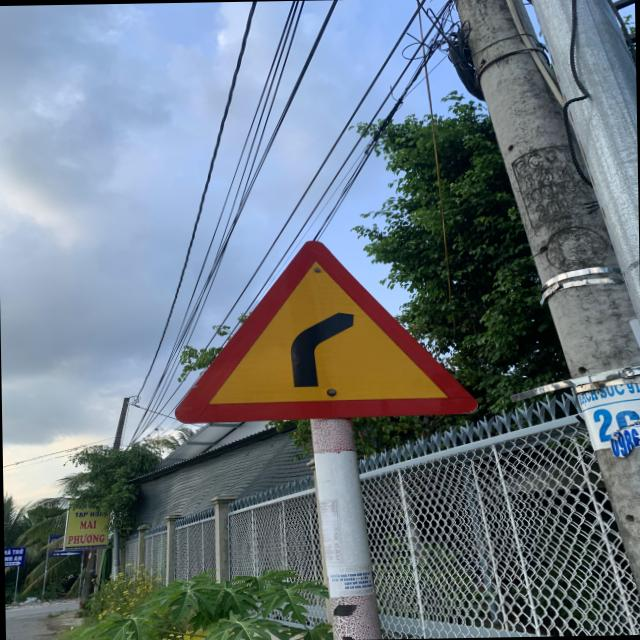Duong_Nguoi_Di_Bo_Cat_Ngang: (173, 236, 483, 417)
